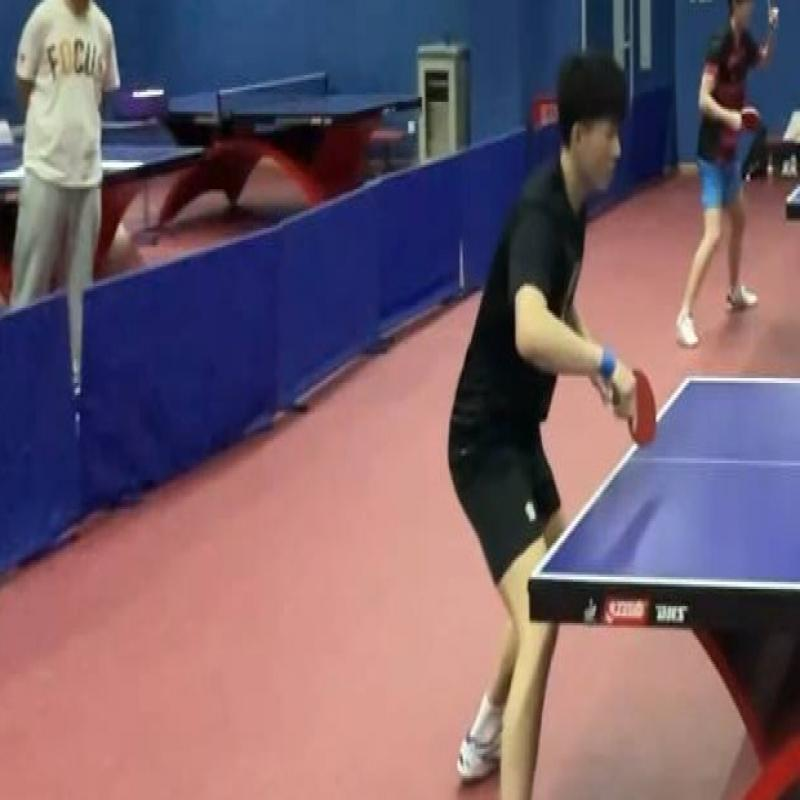bats: (606, 361, 662, 456)
